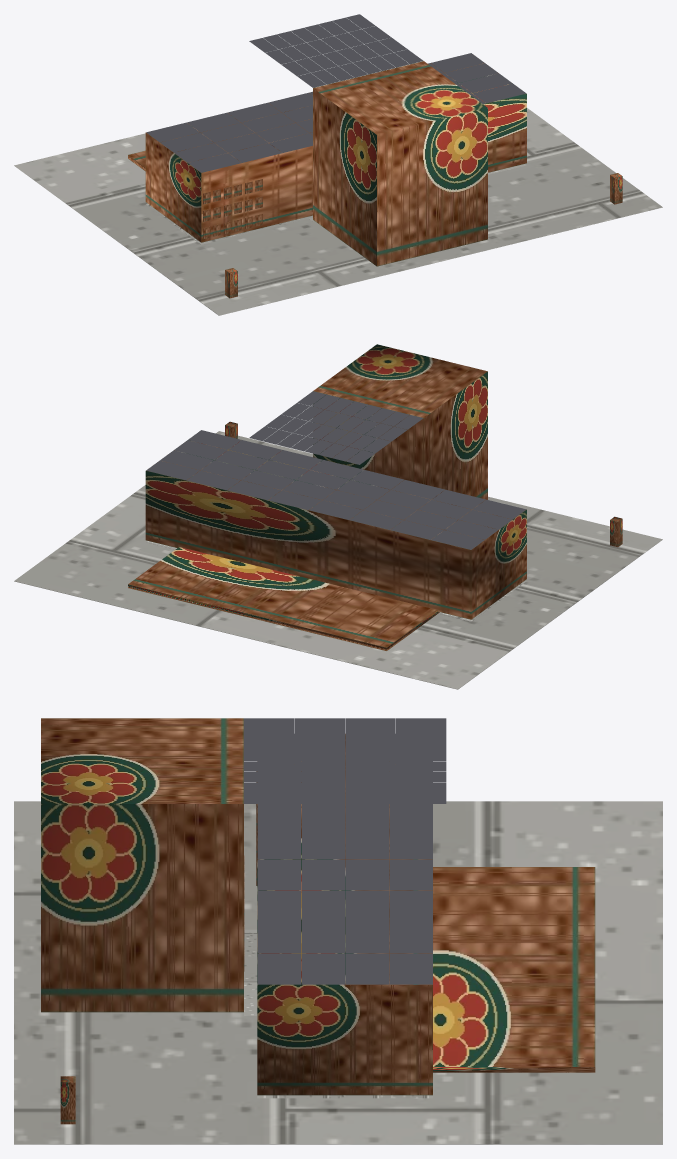
3 renders of one model, top to bottom at view 1: azimuth 30°, elevation 25°; view 2: azimuth 150°, elevation 25°; view 3: azimuth 270°, elevation 25°, orthographic. The views are drawn at different scales.
Visible parts, largest first — view 1: 11680_01_05787_024_02_L2__body, 11680_01_05787_024_01_L2__base, 11680_01_05787_024_03_L2__roof, 11680_01_05787_024_05_L2__openings, 11680_01_05787_024_06_L2__green; view 2: 11680_01_05787_024_02_L2__body, 11680_01_05787_024_01_L2__base, 11680_01_05787_024_03_L2__roof, 11680_01_05787_024_06_L2__green; view 3: 11680_01_05787_024_02_L2__body, 11680_01_05787_024_01_L2__base, 11680_01_05787_024_03_L2__roof, 11680_01_05787_024_06_L2__green.
Part boxes in pixels (box(x1,y1,x2,y2)): 11680_01_05787_024_02_L2__body: box(128, 61, 526, 266); 11680_01_05787_024_01_L2__base: box(14, 108, 662, 315); 11680_01_05787_024_03_L2__roof: box(146, 14, 526, 172); 11680_01_05787_024_05_L2__openings: box(203, 179, 262, 239); 11680_01_05787_024_06_L2__green: box(225, 173, 622, 298); 11680_01_05787_024_02_L2__body: box(128, 344, 526, 650); 11680_01_05787_024_01_L2__base: box(14, 431, 662, 689); 11680_01_05787_024_03_L2__roof: box(146, 391, 526, 549); 11680_01_05787_024_06_L2__green: box(225, 421, 622, 547); 11680_01_05787_024_02_L2__body: box(41, 718, 595, 1095); 11680_01_05787_024_01_L2__base: box(14, 801, 662, 1144); 11680_01_05787_024_03_L2__roof: box(244, 718, 446, 984); 11680_01_05787_024_06_L2__green: box(60, 1076, 75, 1124).
Bounding box in the file's own units: 120 × 34.62 × 96.
Materials: 5 (5 with a texture image).
